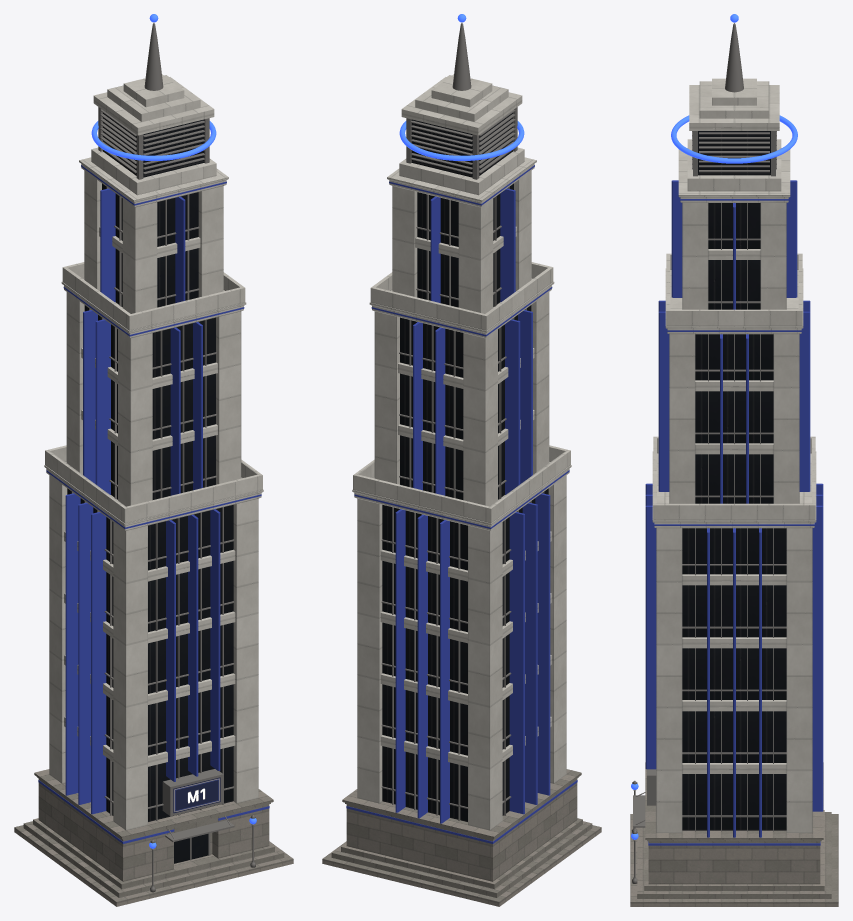
File: s11-molecular.glb
3 renders of one model, left to right at view 1: azimuth 30°, elevation 25°; view 2: azimuth 150°, elevation 25°; view 3: azimuth 270°, elevation 25°, orthographic.
Visible parts, largest first — view 1: Landmark · Molecular (Series 11); view 2: Landmark · Molecular (Series 11); view 3: Landmark · Molecular (Series 11).
Part boxes in pixels (x1,y1,x2,y2): Landmark · Molecular (Series 11): (14,14,293,906); Landmark · Molecular (Series 11): (322,14,601,906); Landmark · Molecular (Series 11): (630,14,838,906).
Size of the model in its own units: 12 by 54 by 12.
Materials: 7 (4 with a texture image).
